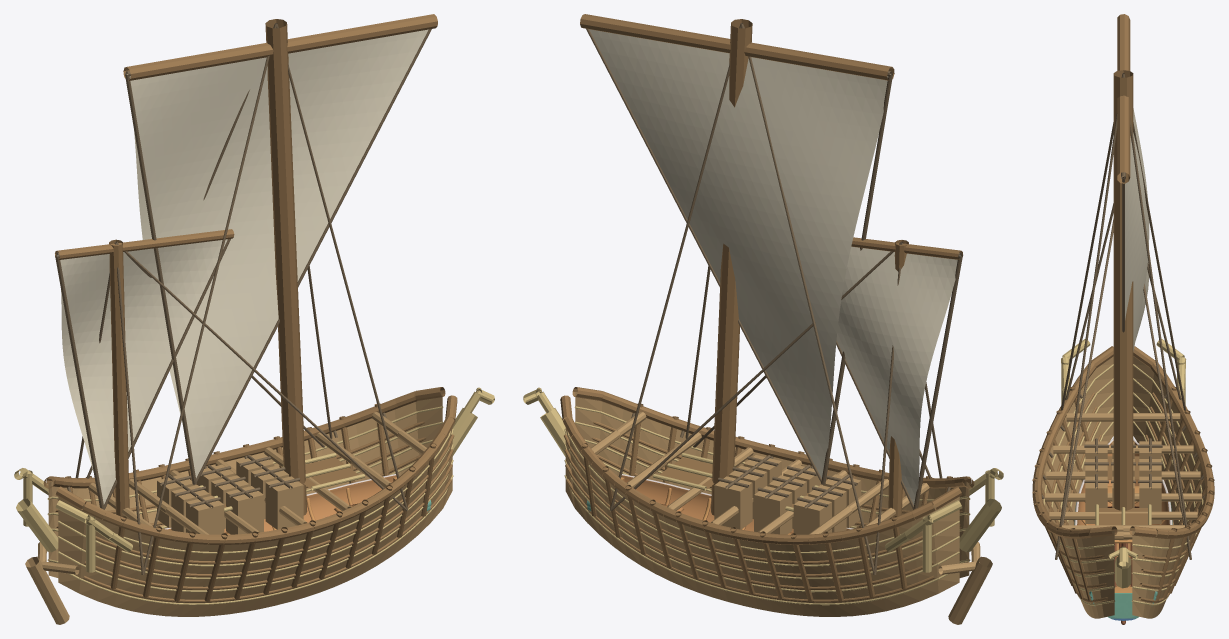
File: kotia-custom.glb
The picture shows the model from 3 angles, left to right: view 1: azimuth 30°, elevation 25°; view 2: azimuth 150°, elevation 25°; view 3: azimuth 270°, elevation 25°; orthographic projection. The views are drawn at different scales.
Parts seen in each view (by area): view 1: kotia Malabar kotia high main lateen cloth, kotia joined curved outer hull planks, kotia teak masts sloped yards, kotia Malabar kotia aft trade lateen cloth, kotia timber gunwale and ribs, kotia billowed sail hems and standing rigging, kotia handworked open cargo deck and timber boxes, kotia individual teak strakes and outer wooden wales, kotia visible hull plank joints, kotia transverse deck thwarts and reinforcing knees, kotia kotia arched stern and carved parrot head stem, rowboat_body (+5 smaller); view 2: kotia Malabar kotia high main lateen cloth, kotia joined curved outer hull planks, kotia Malabar kotia aft trade lateen cloth, kotia timber gunwale and ribs, kotia teak masts sloped yards, kotia billowed sail hems and standing rigging, kotia handworked open cargo deck and timber boxes, kotia individual teak strakes and outer wooden wales, kotia visible hull plank joints, kotia transverse deck thwarts and reinforcing knees, kotia kotia arched stern and carved parrot head stem, rowboat_body (+5 smaller); view 3: kotia joined curved outer hull planks, kotia timber gunwale and ribs, kotia teak masts sloped yards, kotia billowed sail hems and standing rigging, kotia transverse deck thwarts and reinforcing knees, kotia Malabar kotia high main lateen cloth, kotia handworked open cargo deck and timber boxes, kotia visible hull plank joints, kotia individual teak strakes and outer wooden wales, rowboat_body, kotia kotia arched stern and carved parrot head stem, kotia coir cargo lashings and gunwale knots (+2 smaller).
Boxes of the visible parts, <box> form: kotia Malabar kotia high main lateen cloth: <box>127,29,428,478</box>; kotia joined curved outer hull planks: <box>48,392,452,616</box>; kotia teak masts sloped yards: <box>55,14,437,518</box>; kotia Malabar kotia aft trade lateen cloth: <box>57,239,227,504</box>; kotia timber gunwale and ribs: <box>43,387,457,601</box>; kotia billowed sail hems and standing rigging: <box>55,23,431,574</box>; kotia handworked open cargo deck and timber boxes: <box>157,455,303,534</box>; kotia individual teak strakes and outer wooden wales: <box>55,421,454,602</box>; kotia visible hull plank joints: <box>47,406,453,605</box>; kotia transverse deck thwarts and reinforcing knees: <box>88,412,426,534</box>; kotia kotia arched stern and carved parrot head stem: <box>14,387,494,572</box>; rowboat_body: <box>164,474,431,534</box>; kotia Malabar kotia high main lateen cloth: <box>589,29,890,478</box>; kotia joined curved outer hull planks: <box>565,392,969,616</box>; kotia Malabar kotia aft trade lateen cloth: <box>836,246,960,504</box>; kotia timber gunwale and ribs: <box>560,387,974,601</box>; kotia teak masts sloped yards: <box>580,14,963,518</box>; kotia billowed sail hems and standing rigging: <box>586,23,962,574</box>; kotia handworked open cargo deck and timber boxes: <box>714,455,861,534</box>; kotia individual teak strakes and outer wooden wales: <box>564,421,962,602</box>; kotia visible hull plank joints: <box>564,406,970,605</box>; kotia transverse deck thwarts and reinforcing knees: <box>590,412,929,534</box>; kotia kotia arched stern and carved parrot head stem: <box>523,387,1003,572</box>; rowboat_body: <box>586,474,853,534</box>; kotia joined curved outer hull planks: <box>1042,356,1205,618</box>; kotia timber gunwale and ribs: <box>1032,346,1214,601</box>; kotia teak masts sloped yards: <box>1113,14,1133,540</box>; kotia billowed sail hems and standing rigging: <box>1055,73,1191,559</box>; kotia transverse deck thwarts and reinforcing knees: <box>1045,413,1201,539</box>; kotia Malabar kotia high main lateen cloth: <box>1125,108,1149,351</box>; kotia handworked open cargo deck and timber boxes: <box>1085,441,1161,523</box>; kotia visible hull plank joints: <box>1043,364,1203,605</box>; kotia individual teak strakes and outer wooden wales: <box>1048,392,1198,602</box>; rowboat_body: <box>1074,438,1172,624</box>; kotia kotia arched stern and carved parrot head stem: <box>1061,338,1186,566</box>; kotia coir cargo lashings and gunwale knots: <box>1042,393,1205,498</box>.
Size of the model in its own units: 9.01 by 10.09 by 3.25.
6 materials, 1 textured.
